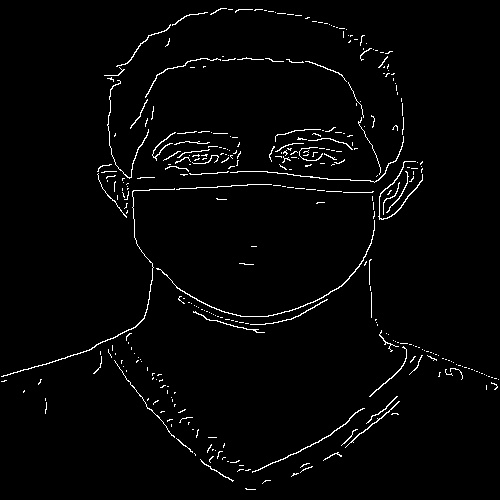mask: (128, 185, 387, 322)
